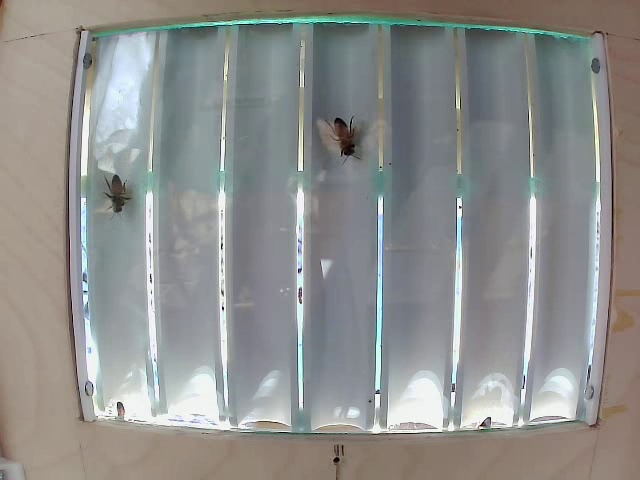bee: (99, 172, 140, 232), (318, 110, 364, 157)
